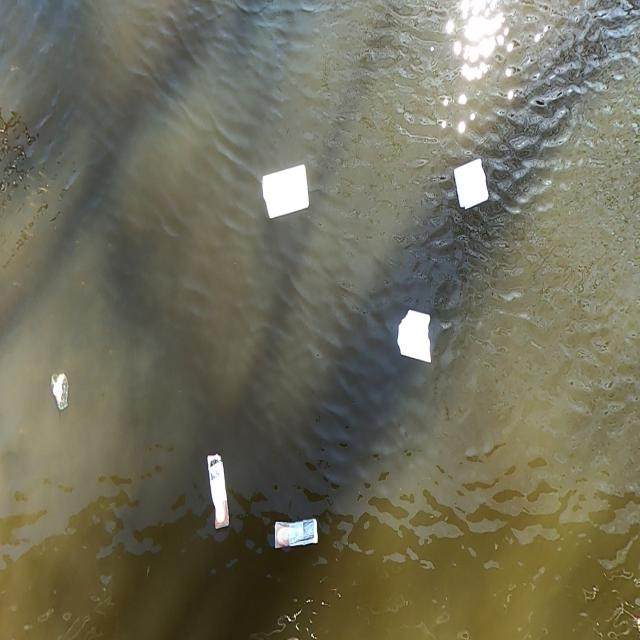Autre plastique: (259, 166, 318, 226), (397, 306, 436, 368), (204, 454, 231, 536), (454, 158, 491, 212), (274, 519, 322, 553)
